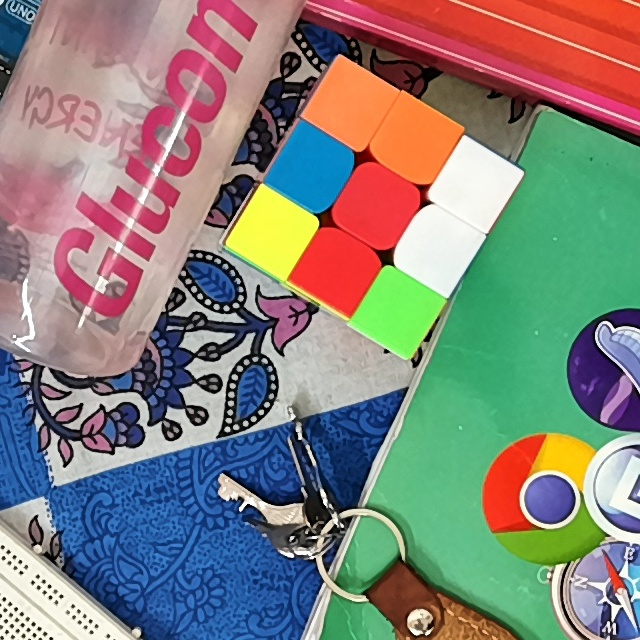tile: (388, 116, 440, 168), (286, 144, 337, 196), (310, 247, 363, 296), (352, 181, 403, 230), (451, 161, 501, 210), (324, 83, 376, 129), (371, 289, 423, 335), (414, 223, 461, 273), (248, 210, 294, 259)
